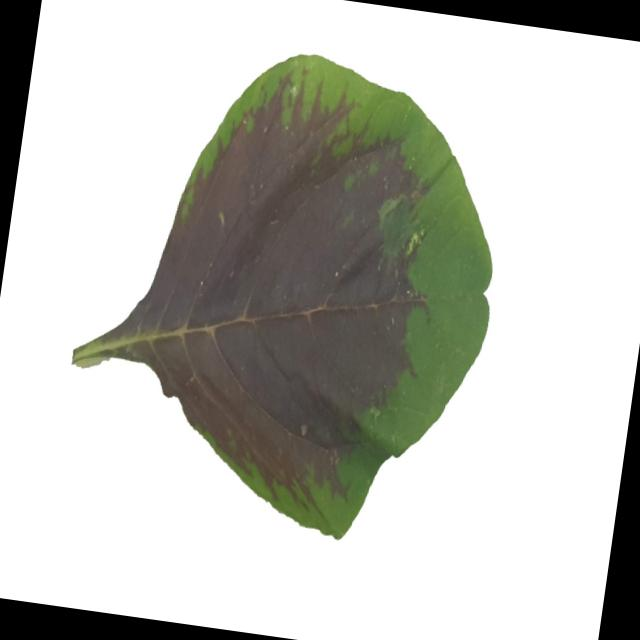Medicinal-Arive Dantu: (55, 22, 522, 565)
